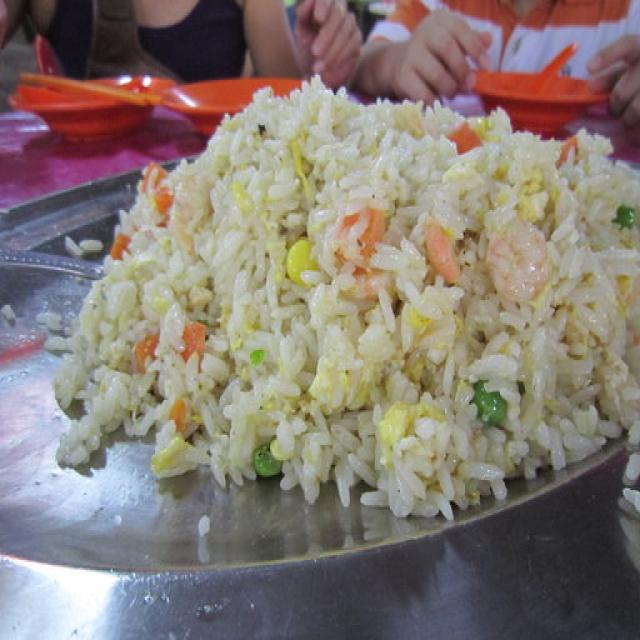Rice: (52, 77, 640, 520)
